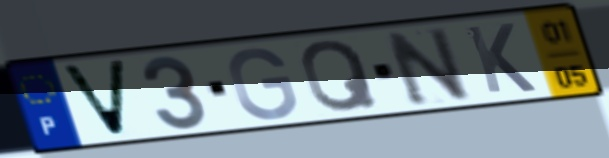3: (140, 53, 210, 132)
G: (224, 45, 301, 123)
K: (461, 21, 541, 96)
N: (379, 23, 476, 109)
Q: (298, 38, 383, 115)
V: (55, 57, 130, 140)
